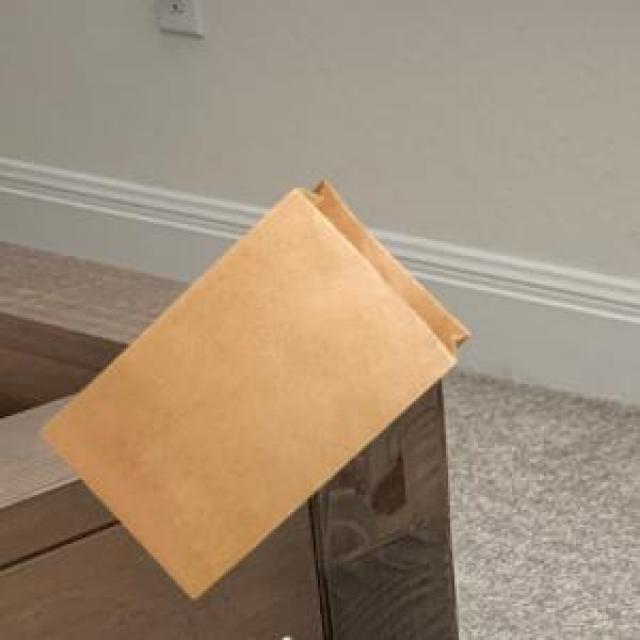Paper -Biodegradable-: (45, 180, 468, 601)
